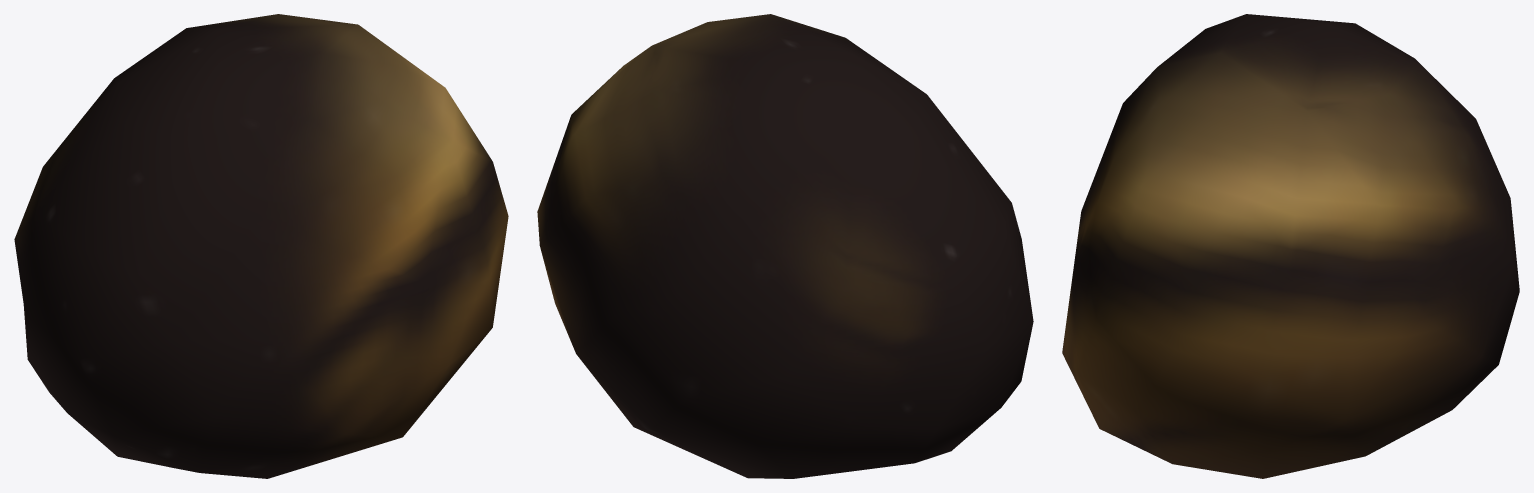
File: SM_Gem_EyeOfTiger_Piece_002.fbx
3 renders of one model, left to right at view 1: azimuth 30°, elevation 25°; view 2: azimuth 150°, elevation 25°; view 3: azimuth 270°, elevation 25°, orthographic. The views are drawn at different scales.
Parts seen in each view (by area): view 1: SM_Gem_EyeOfTiger_Piece_002; view 2: SM_Gem_EyeOfTiger_Piece_002; view 3: SM_Gem_EyeOfTiger_Piece_002.
Part boxes in pixels (x1,y1,x2,y2): SM_Gem_EyeOfTiger_Piece_002: (14,14,508,478); SM_Gem_EyeOfTiger_Piece_002: (537,14,1033,478); SM_Gem_EyeOfTiger_Piece_002: (1062,14,1519,478).
Size of the model in its own units: 17.52 by 15.38 by 15.17.
